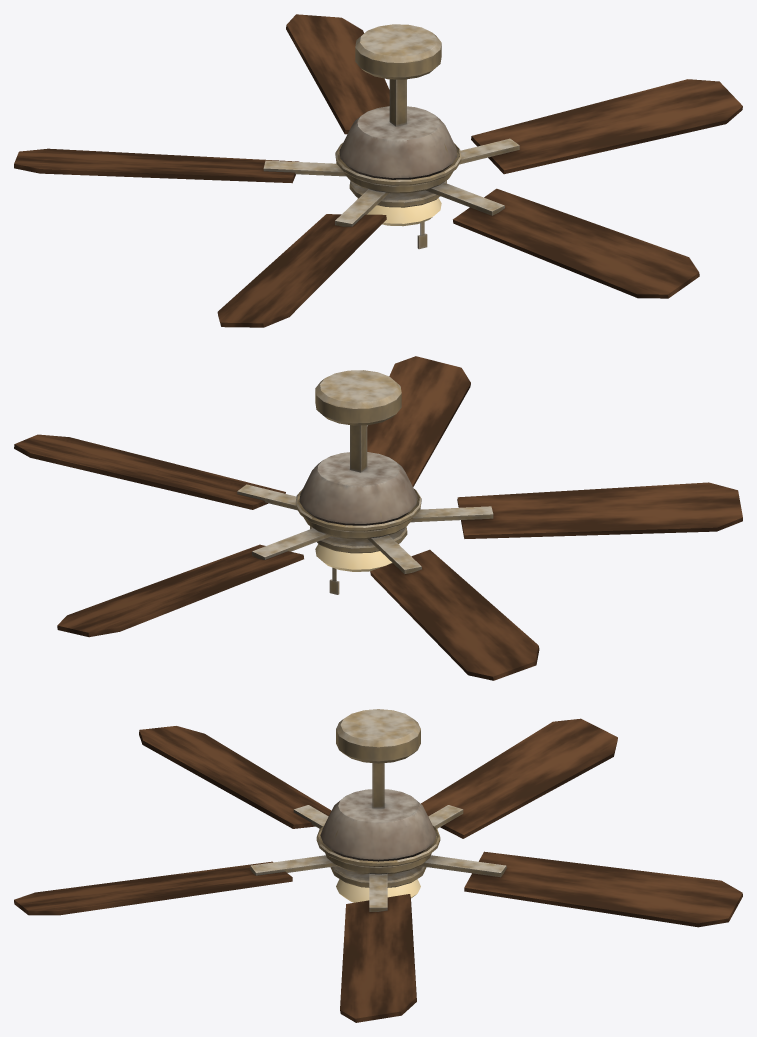
The model's file is ceiling_fan.fbx.
The picture shows the model from 3 angles, top to bottom: view 1: azimuth 30°, elevation 25°; view 2: azimuth 150°, elevation 25°; view 3: azimuth 270°, elevation 25°; orthographic projection. The views are drawn at different scales.
Parts seen in each view (by area): view 1: Spin, Body, Glow; view 2: Spin, Body, Glow; view 3: Spin, Body, Glow.
Boxes of the visible parts, <box> form: Spin: <box>14,14,742,327</box>; Body: <box>335,24,461,249</box>; Glow: <box>357,198,441,226</box>; Spin: <box>14,356,742,680</box>; Body: <box>295,370,421,594</box>; Glow: <box>315,544,399,571</box>; Spin: <box>14,718,742,1022</box>; Body: <box>316,709,440,887</box>; Glow: <box>336,879,420,902</box>.
Size of the model in its own units: 8.95 by 2.97 by 9.41.
Materials: 1 (1 with a texture image).
